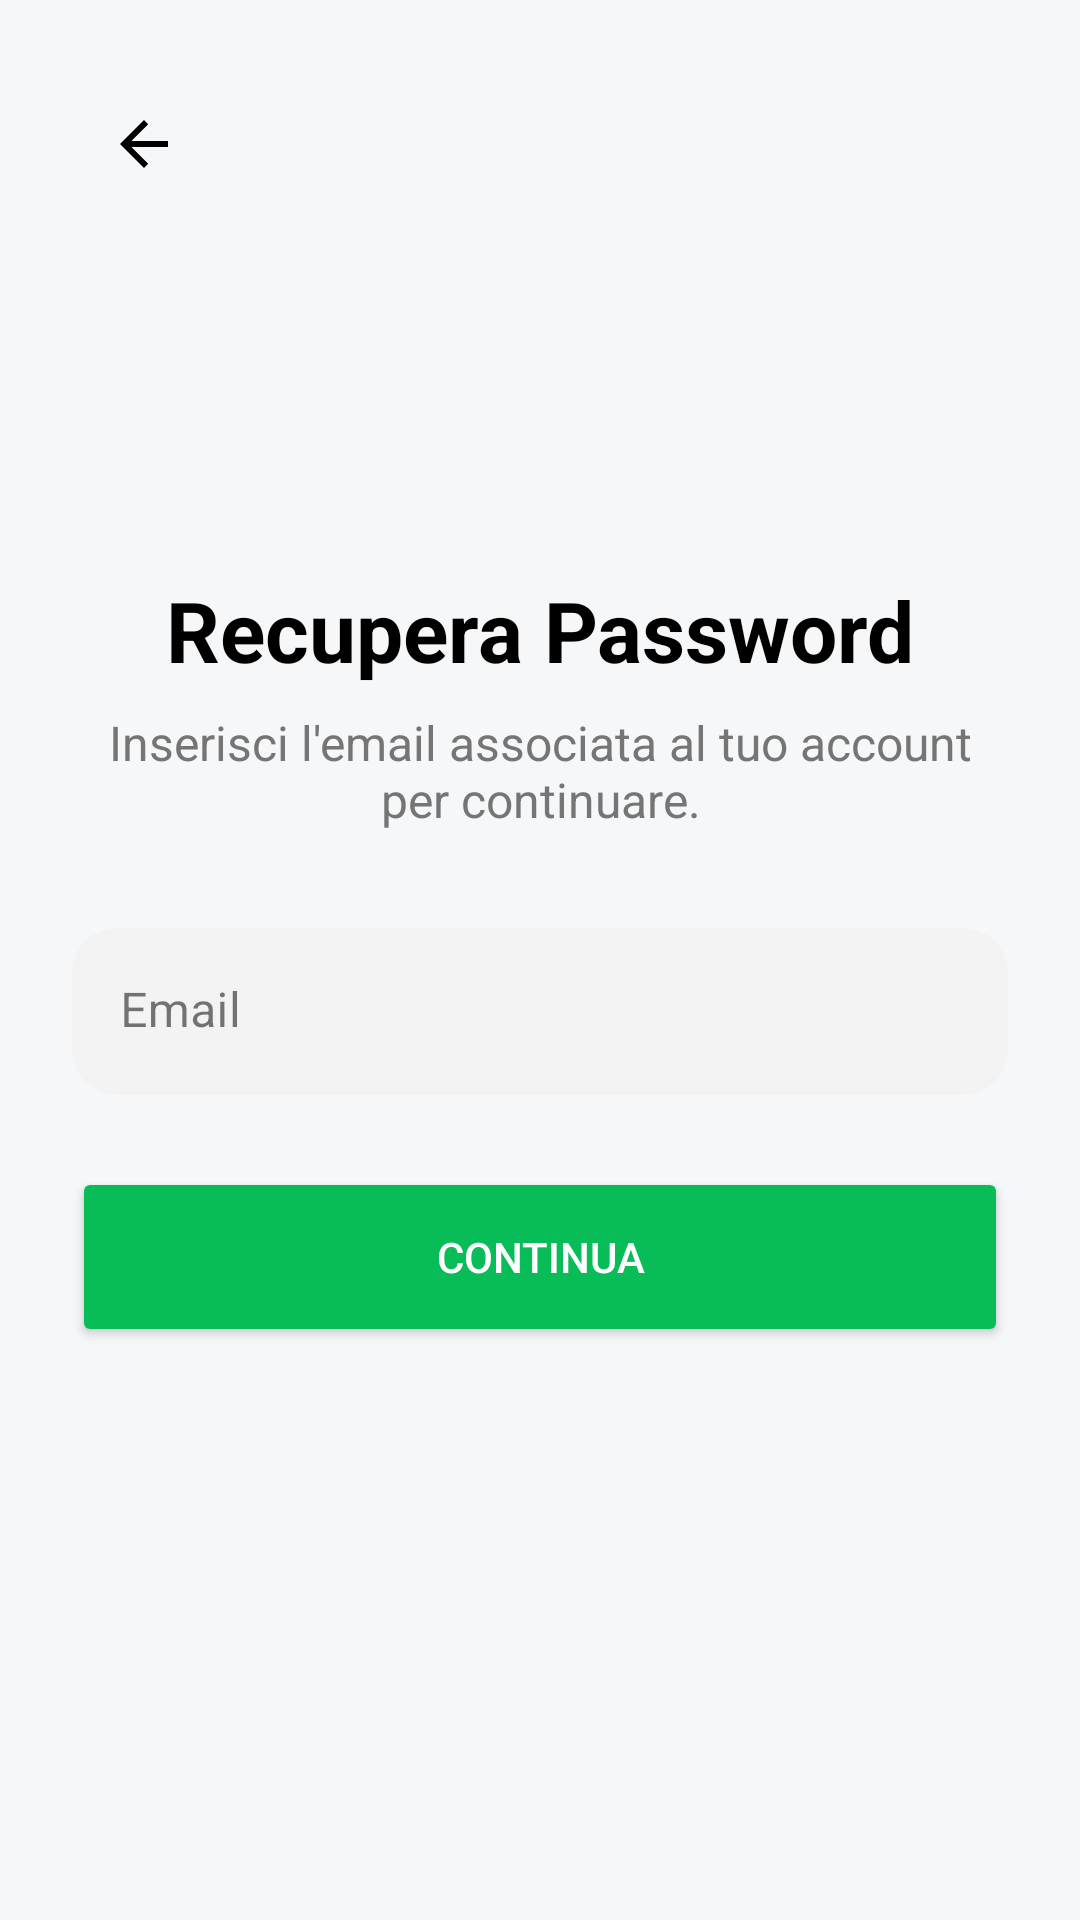

Named icons in this screenshot (1080 x 1920) and their bounding boxes, (x1, y1, x2, y2):
Torna indietro: (120, 120, 168, 168)
